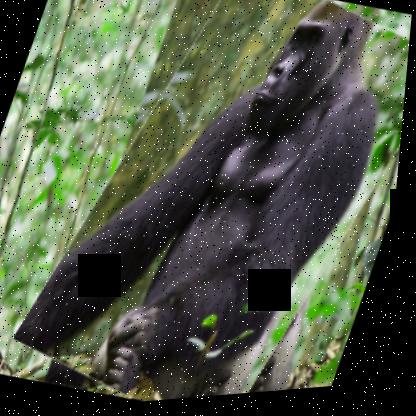Gorilla gorilla: (26, 0, 415, 411)
